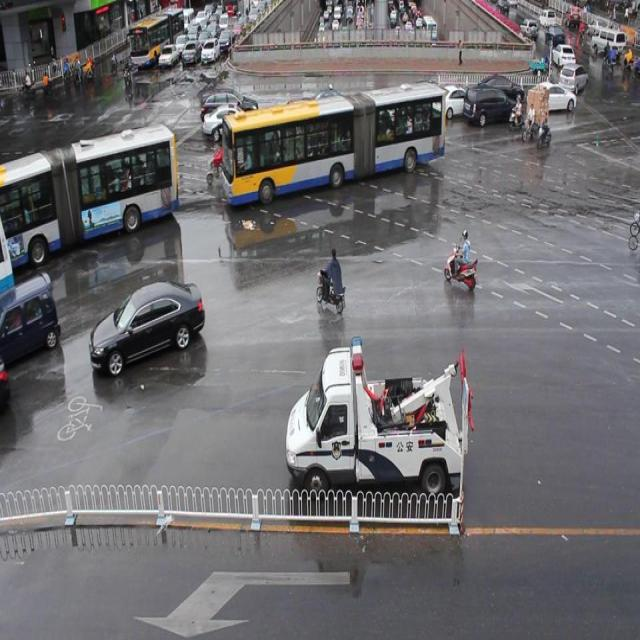bus: (285, 338, 464, 498)
car: (90, 280, 205, 374), (0, 273, 60, 363), (463, 85, 518, 127), (526, 80, 575, 113), (475, 73, 524, 104), (433, 83, 471, 116)
van: (222, 82, 444, 204)
